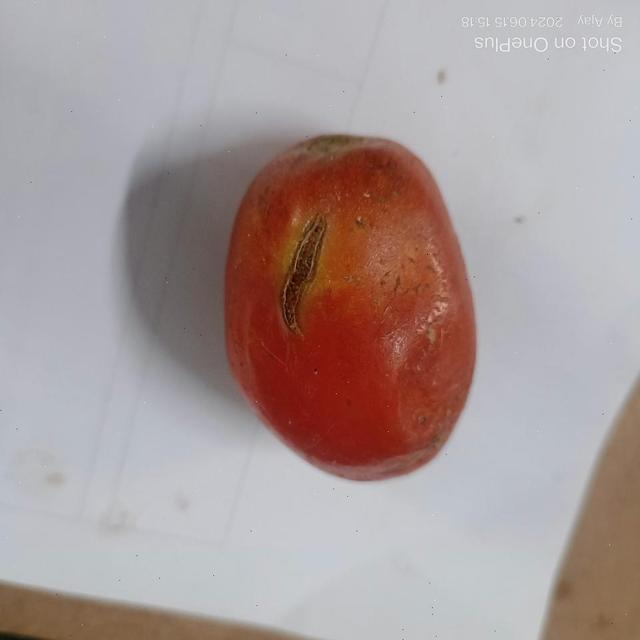Cracking Fruit: (93, 99, 279, 321)
